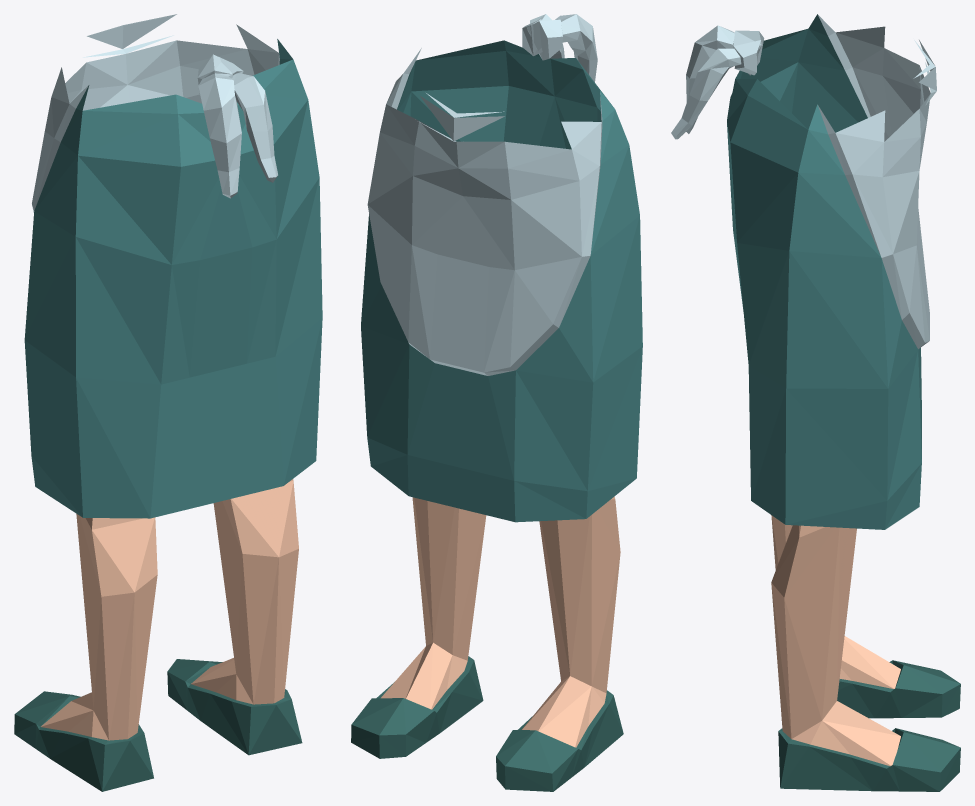
File: Legs.obj
3 views of the same model, side by side, from view 1: azimuth 30°, elevation 25°; view 2: azimuth 150°, elevation 25°; view 3: azimuth 270°, elevation 25° (orthographic). The views are drawn at different scales.
Bounding box in the file's own units: 0.3876 × 1.08 × 0.4009.
1 material, 1 textured.
